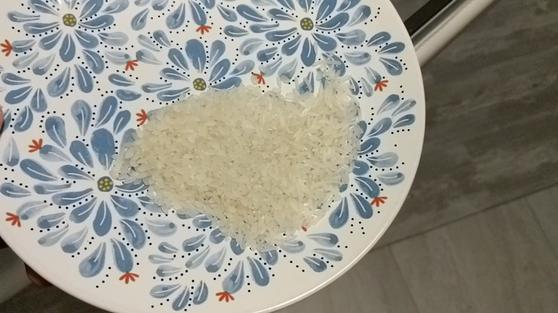rice: (99, 53, 363, 248)
